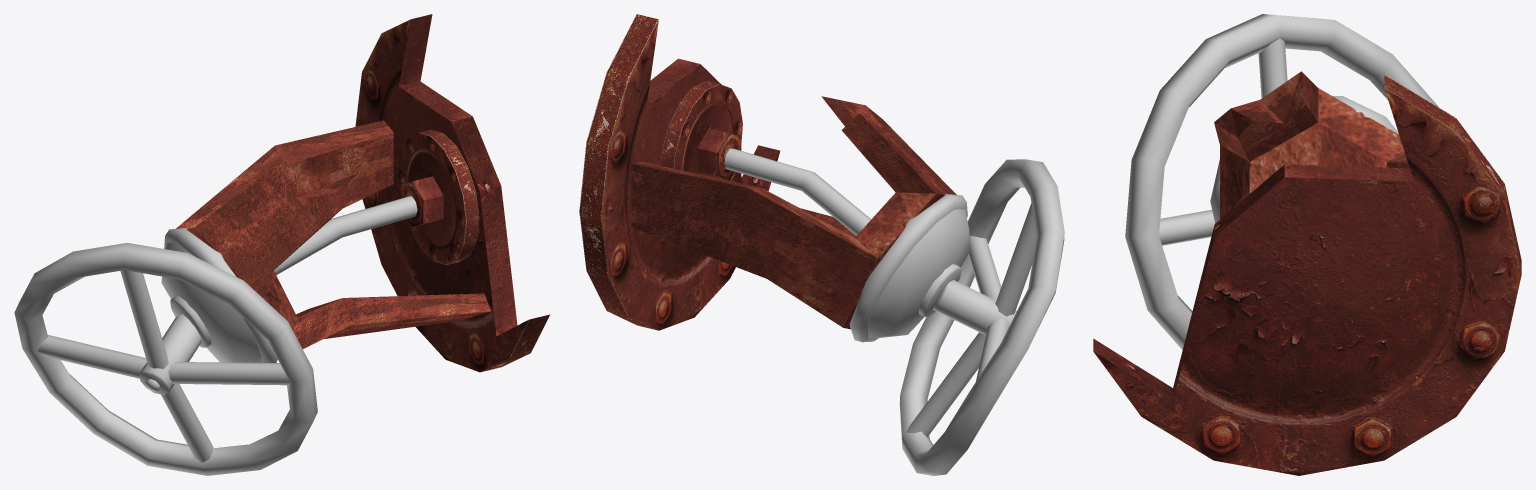
Rendered from valve_broken01_red.DAE.
The picture shows the model from 3 angles, left to right: view 1: azimuth 30°, elevation 25°; view 2: azimuth 150°, elevation 25°; view 3: azimuth 270°, elevation 25°; orthographic projection. The views are drawn at different scales.
Visible parts, largest first — view 1: Box340, Object521, Object523; view 2: Box340, Object521, Object523; view 3: Object521, Box340, Object523.
Part boxes in pixels (x1,y1,x2,y2): Box340: (14,196,417,475); Object521: (355,14,550,372); Object523: (176,120,490,348); Box340: (724,148,1064,475); Object521: (579,14,780,330); Object523: (631,96,956,329); Object521: (1093,74,1521,475); Box340: (1125,14,1439,349); Object523: (1214,71,1409,219).
Size of the model in its own units: 0.8502 by 0.6316 by 0.7674.
